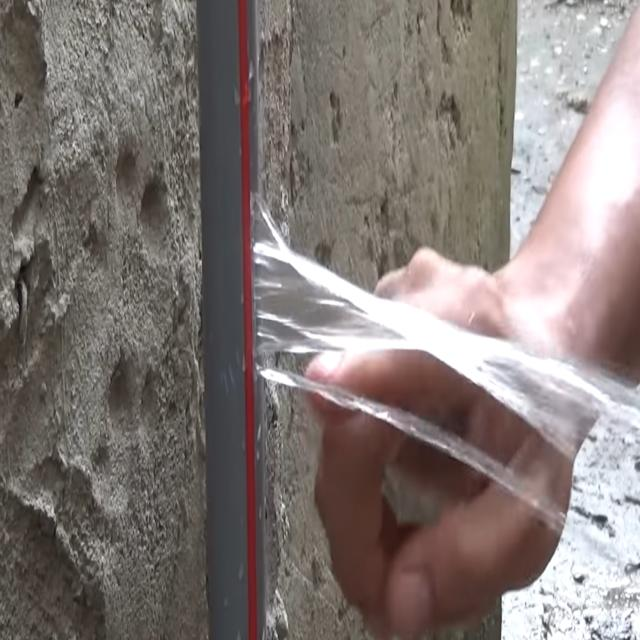leak: (252, 198, 639, 533)
